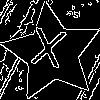X: (27, 27, 68, 78)
